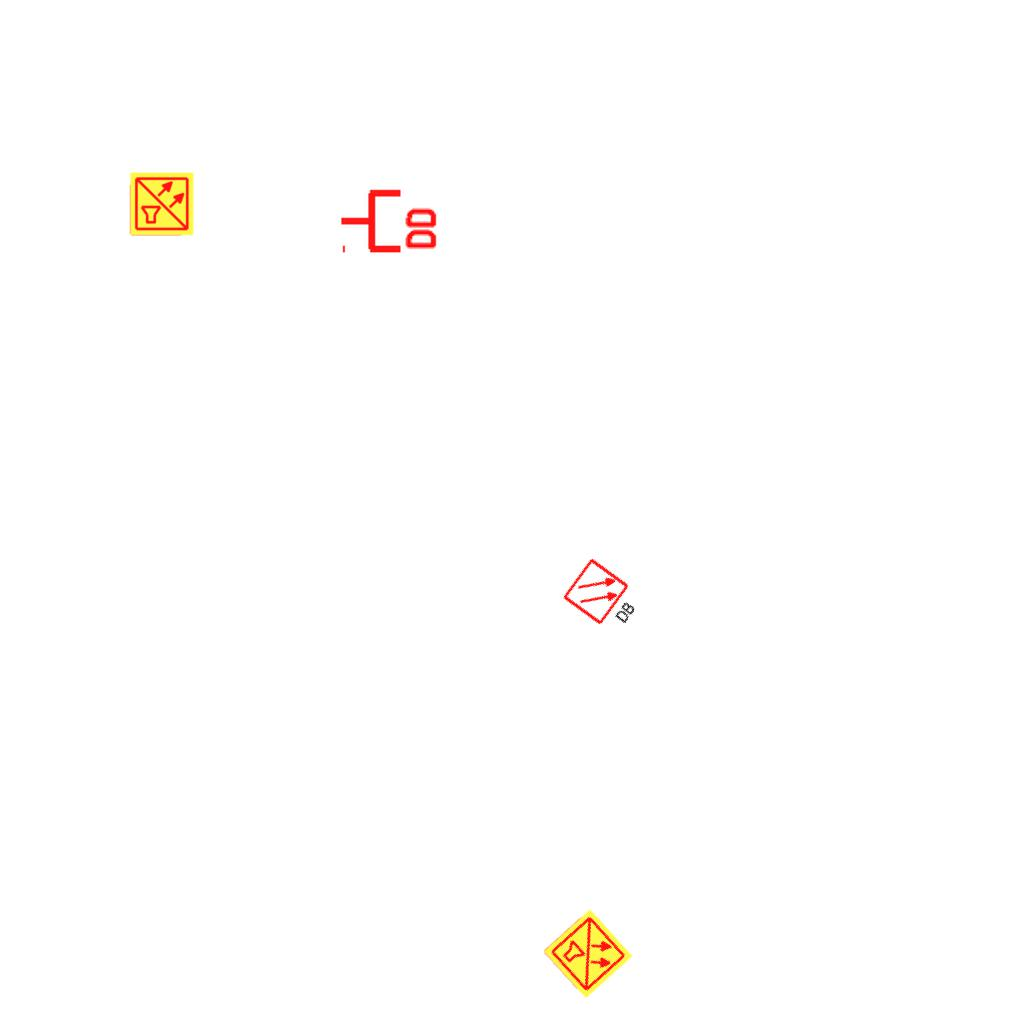DB_Melder_in_Doppelboden_mit_Revisionsoeffnung_mind_40_x_40_cm: (557, 552, 652, 642)
Datenanschluss_zweifach: (338, 185, 441, 254)
OKW_Multisensormelder_(Kombination_optischer_Rauch-Kahlenmonoxid_Waerme-Melder): (541, 907, 635, 1001), (129, 171, 195, 237)
